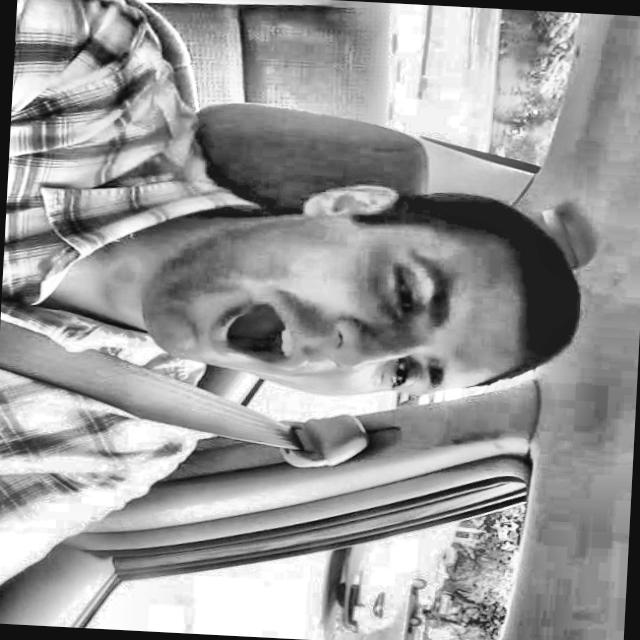open_eyes: (369, 248, 428, 331), (374, 347, 423, 399)
open_mouth: (188, 273, 312, 389)
